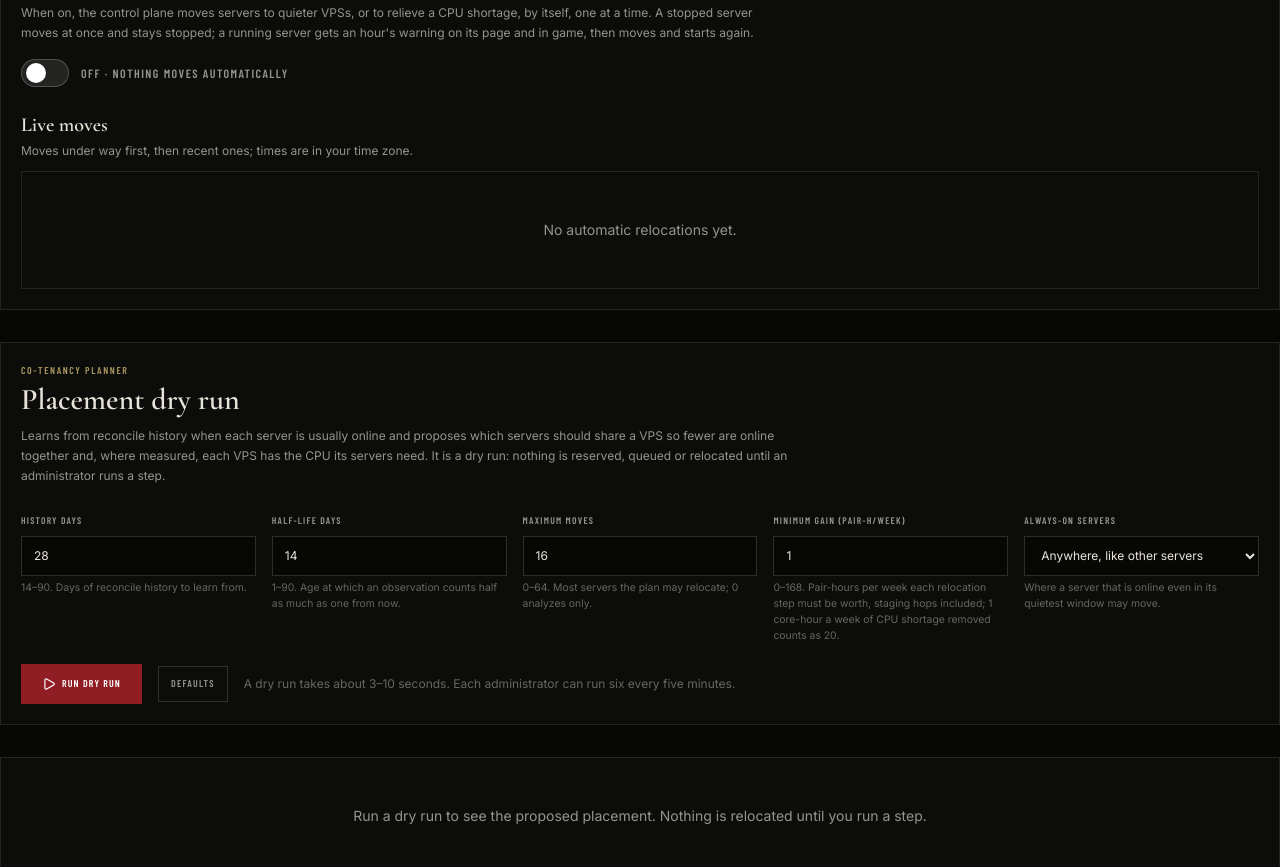
it: opens a step's relocation on the planned VPS with the server's current generation
(page scrolled)
Step 1. Click the button "Run dry run" → click(82, 684), box x1=21 y1=664 x2=142 y2=704
(page scrolled)
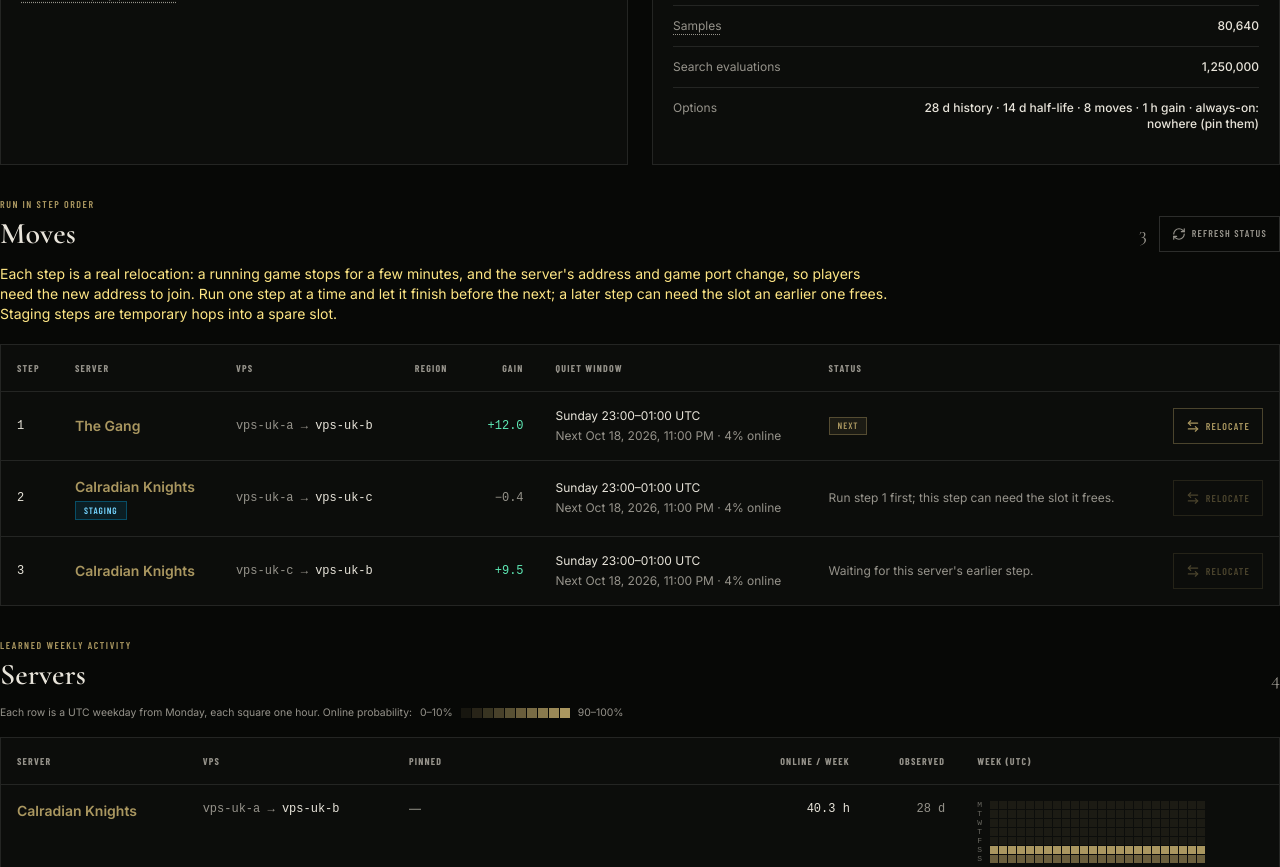
Step 2. Click the button "Relocate" in the row of "+12.0" → click(1218, 426), box x1=1173 y1=408 x2=1263 y2=444
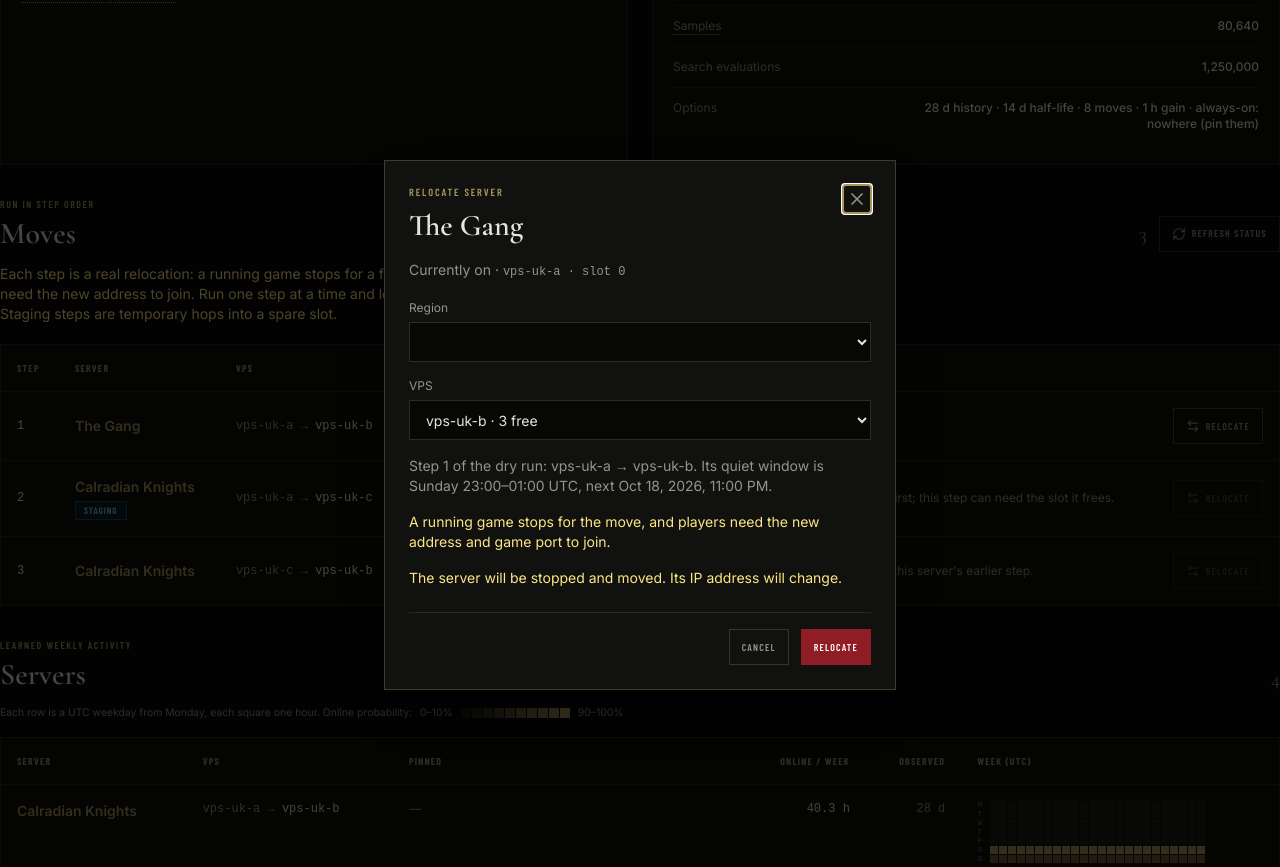
Expected: the dialog shows "Step 1 of the dry run: vps-uk-a → vps-uk-b.", x1=384 y1=160 x2=896 y2=690
Expected: the dialog shows "players need the new address and game port to join", x1=409 y1=513 x2=820 y2=550
Expected: the dropdown labelled "VPS" shows "vps-uk-b · 3 free", x1=409 y1=400 x2=871 y2=440
Step 3. Click the button "Relocate" → click(836, 647), box x1=801 y1=629 x2=871 y2=665
(page scrolled)
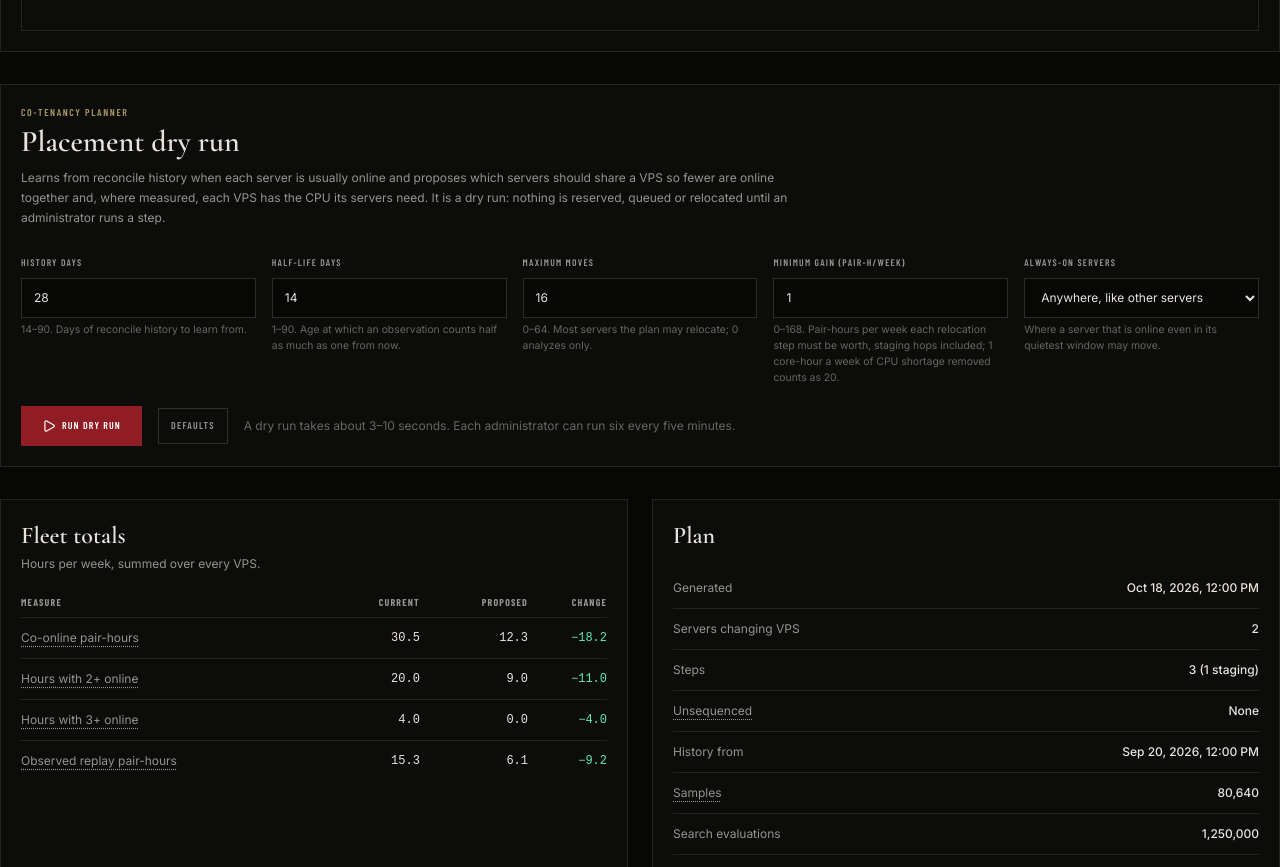
Expected: the dialog is gone
Step 4. Click the button "Run dry run" → click(82, 426), box x1=21 y1=406 x2=142 y2=446
(page scrolled)
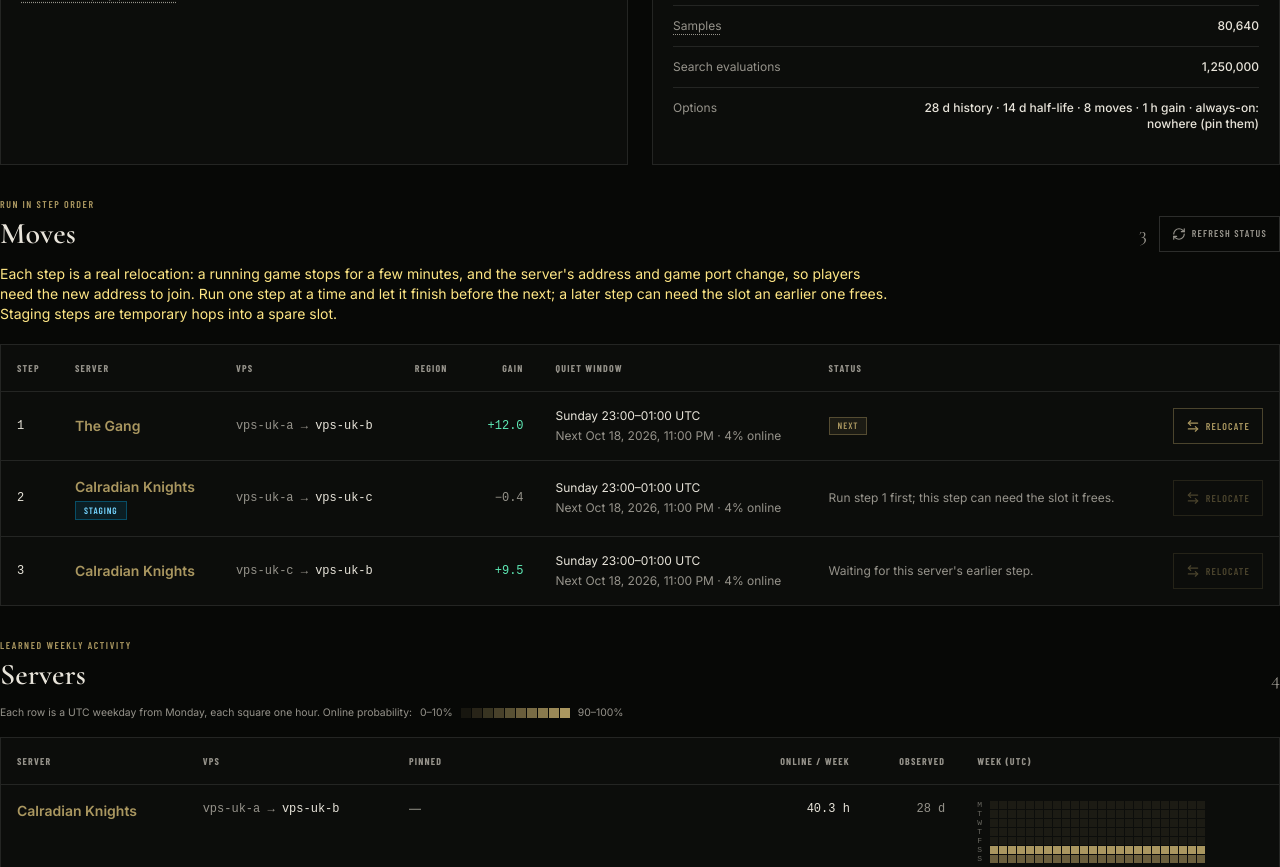
Expected: the button "Relocate" in the row of "+12.0" is enabled, x1=1173 y1=408 x2=1263 y2=444
